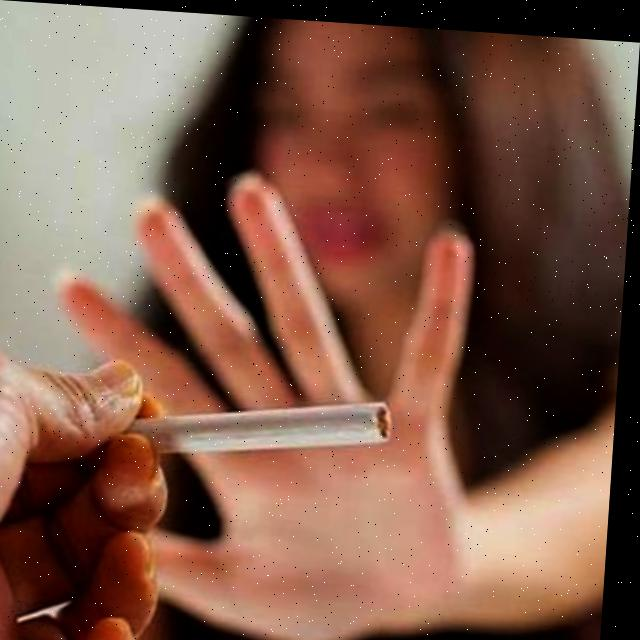cigarette: (132, 383, 399, 463)
